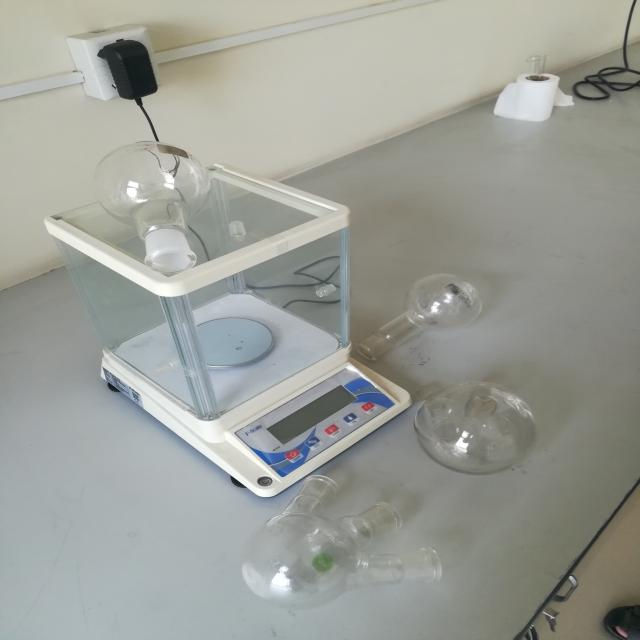Round_Bottom_Flask_Borosilicate_Glass_1_Neck: (67, 116, 241, 287), (353, 236, 506, 370)
Round_Bottom_Flask_Borosilicate_Glass_2_Neck: (390, 344, 545, 490)
Round_Bottom_Flask_Borosilicate_Glass_3_Neck: (213, 455, 456, 625)
